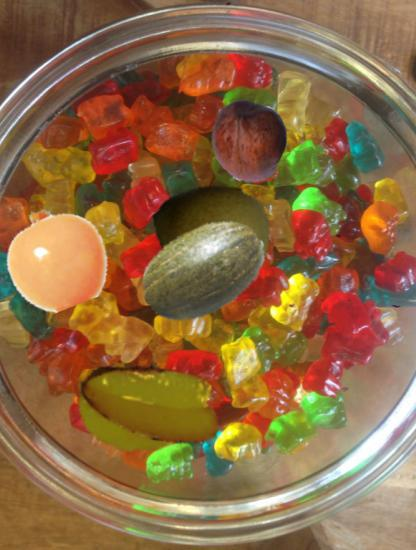Carambula: (77, 330, 224, 477)
Melon: (138, 205, 270, 337)
Nut: (208, 101, 288, 181)
Pear: (149, 174, 272, 297)
Physalis: (4, 204, 109, 309)
